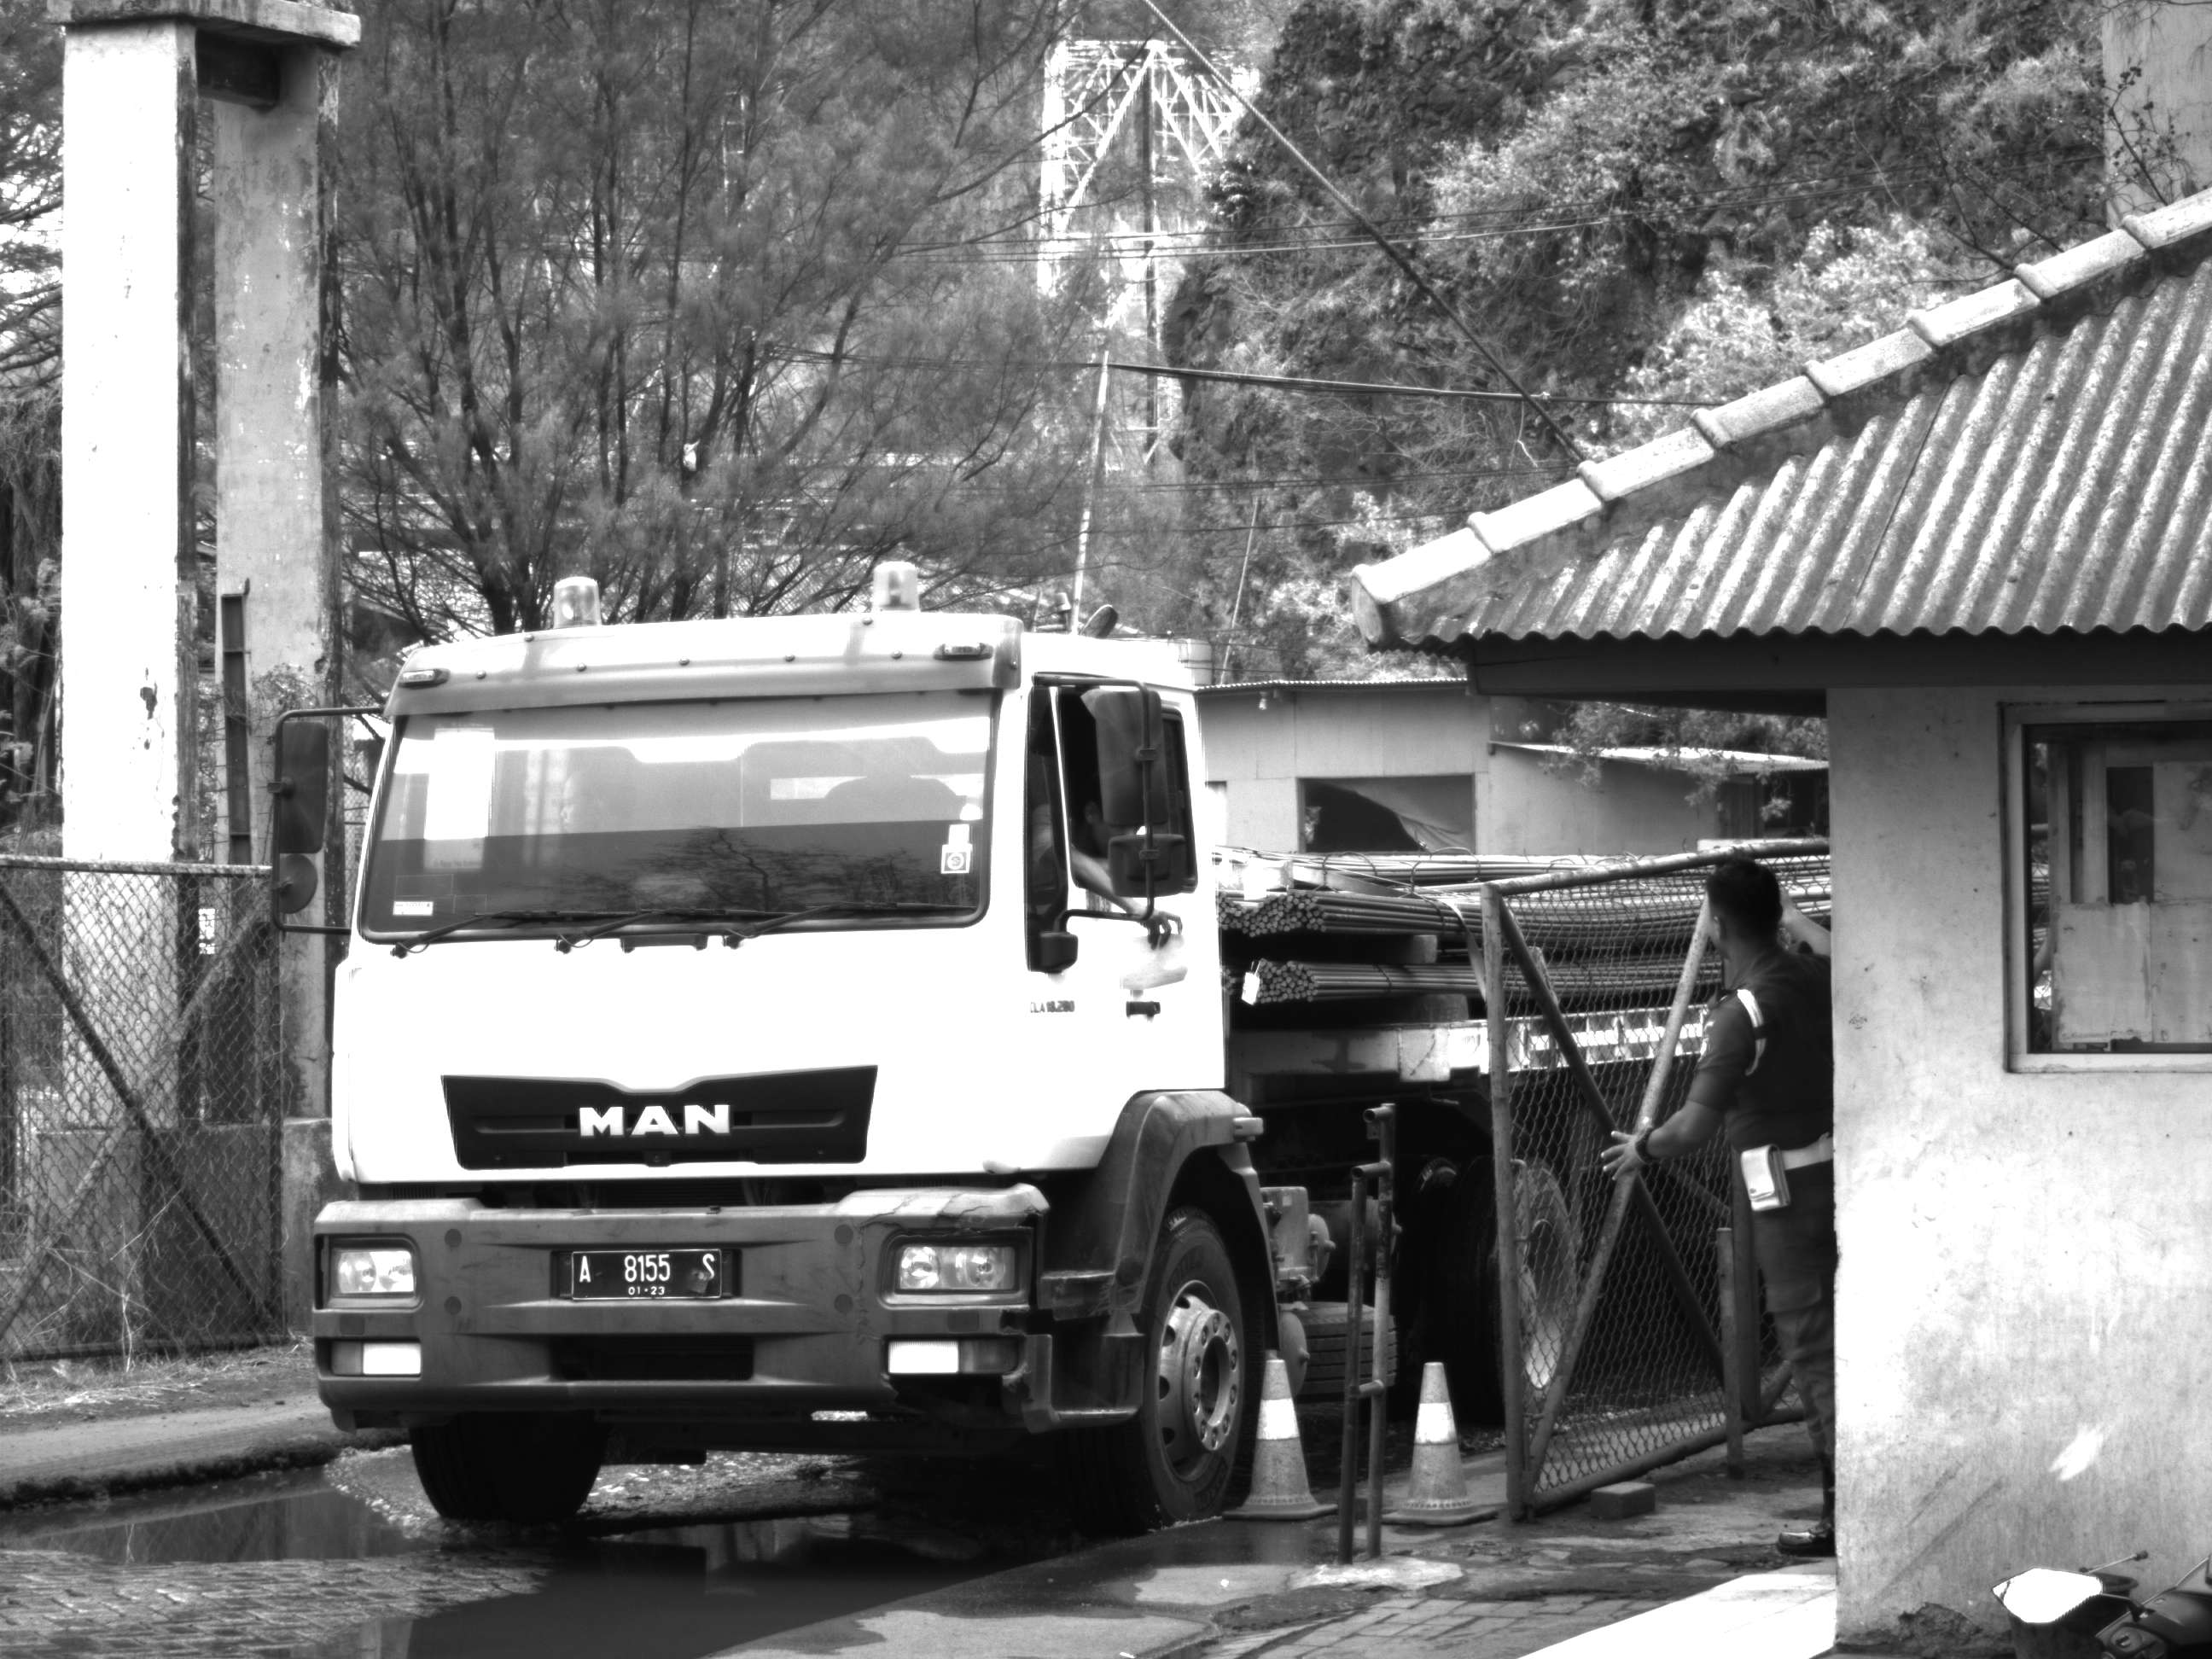day_truck_front: (267, 613, 1257, 1574)
plate: (573, 1246, 730, 1307)
